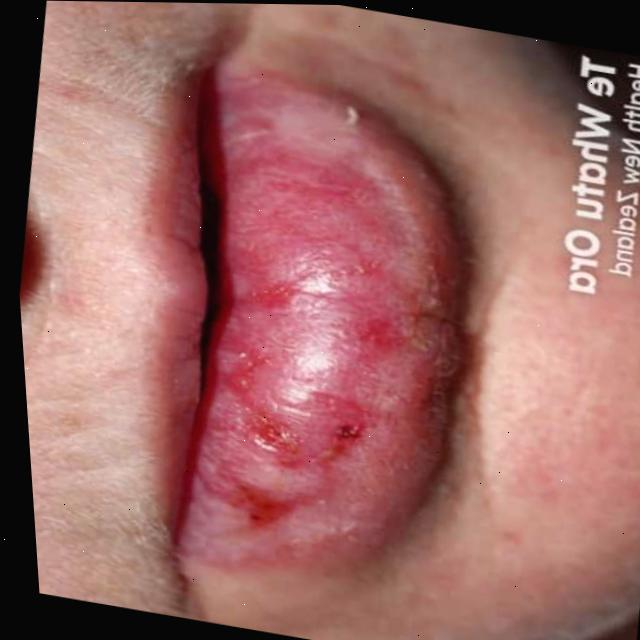lupus-detected: (60, 2, 562, 640)
